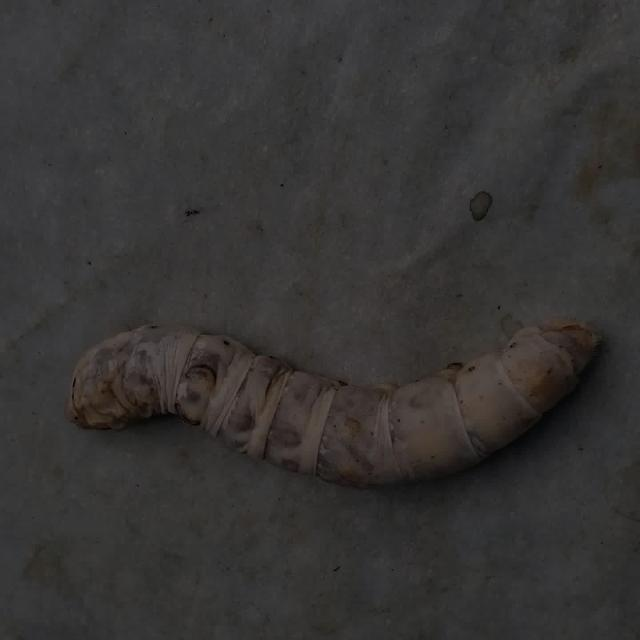Grasserie: (60, 288, 607, 496)
